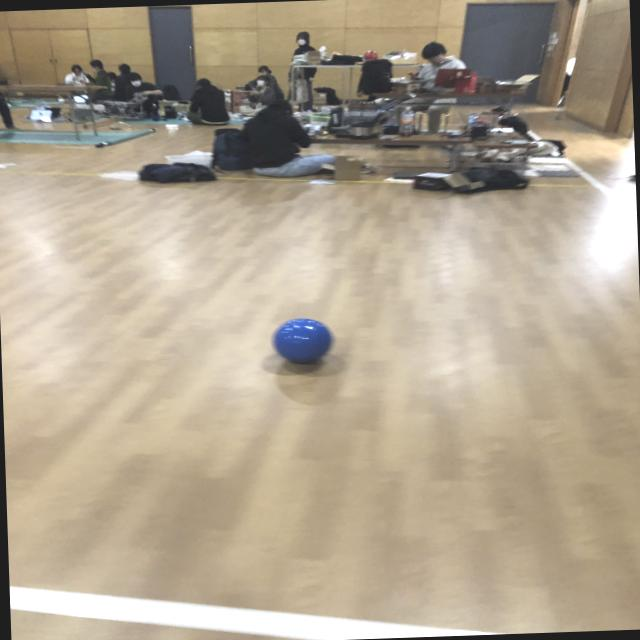blue_ball: (267, 316, 336, 368)
